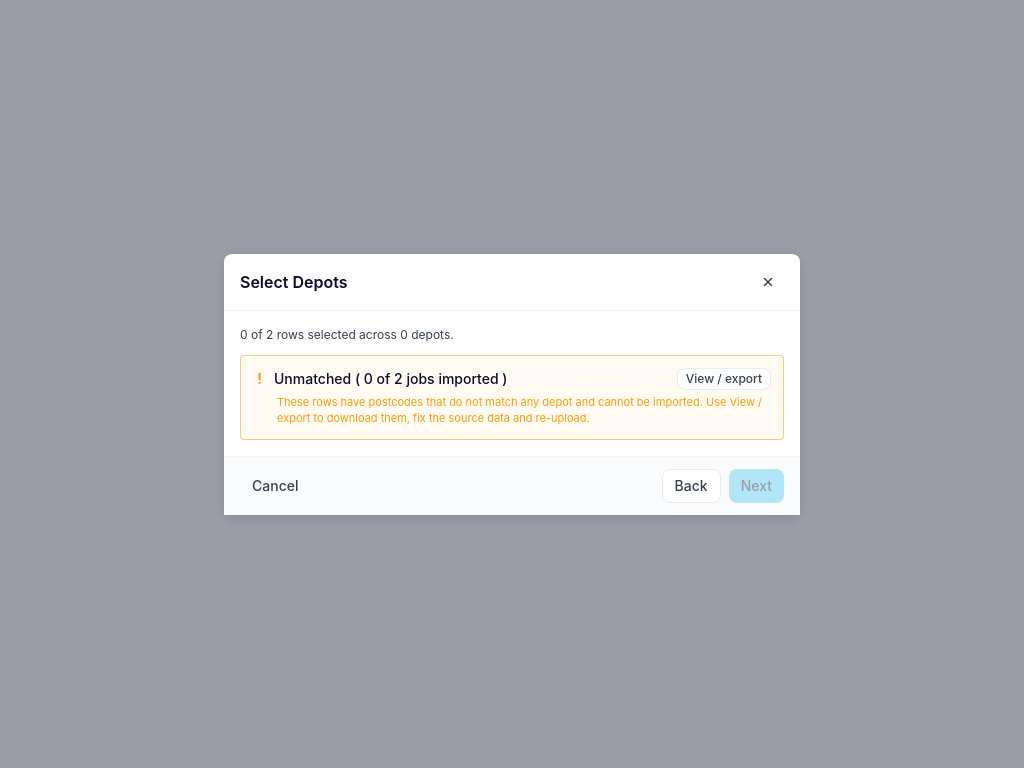
Test: SelectRegionsModal - NZ tenant path › Unmatched View / export opens the row review with the reason per row
Expected: the text "Unmatched ( 0 of 2 jobs imported )" is shown, [274,368,508,388]
Click the button "View / export" at (724, 378), box [677,368,771,390]
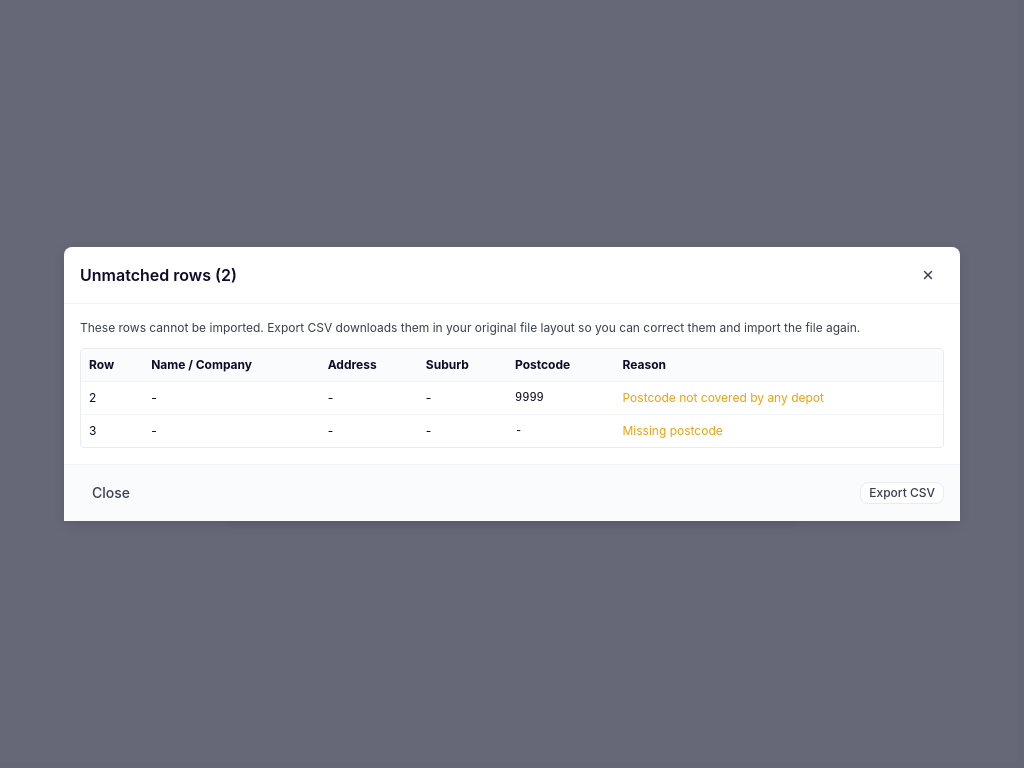
Now the heading "Unmatched rows (2)" is shown, box [80,263,237,287]
Now the text "Postcode not covered by any depot" is shown, box [614,382,943,414]
Now the text "Missing postcode" is shown, box [614,414,943,447]
